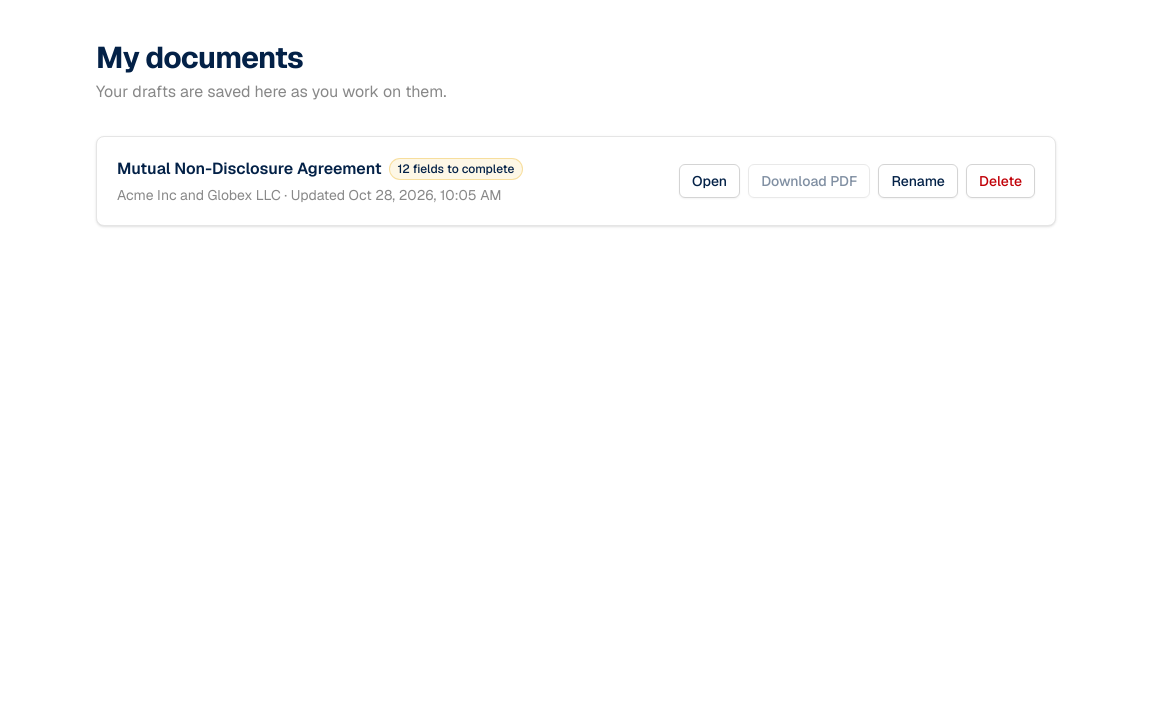
Test case: deleting a document › asks in a dialog, rather than the browser's confirm box, and keeps it when cancelled
The width and height of the screenshot is (1152, 720).
Click the button "Delete": (1000, 181) [966,164,1035,198]
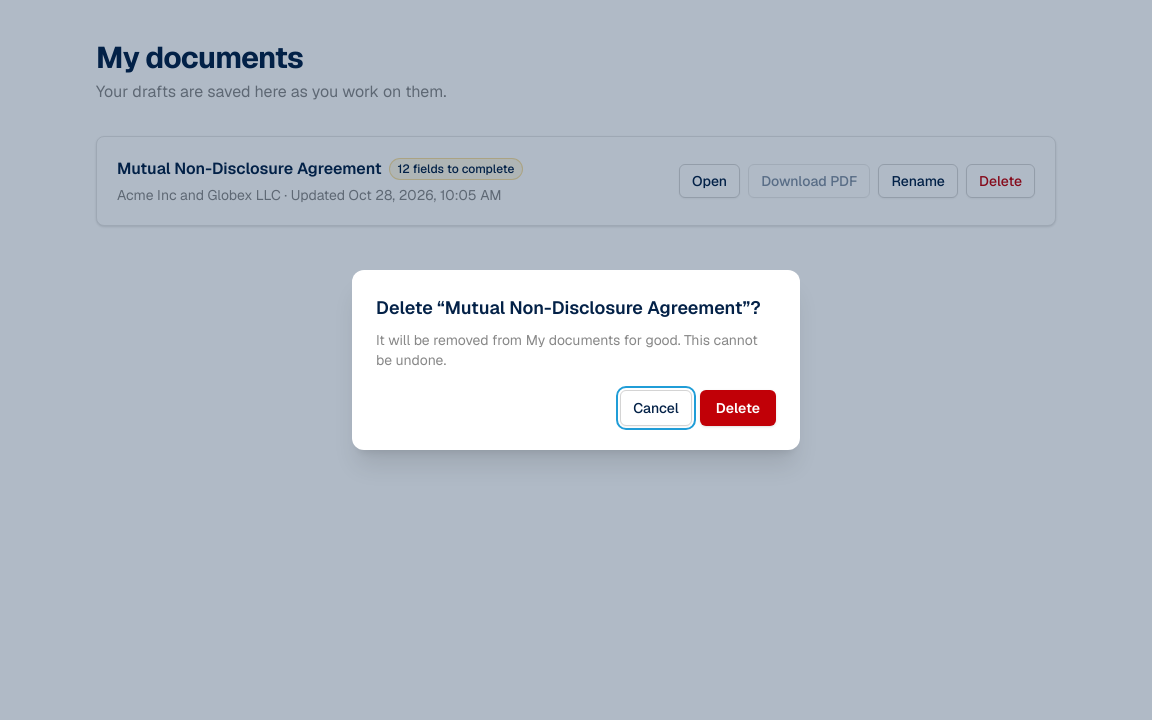
Click the button "Cancel": (656, 408) [620,390,692,426]
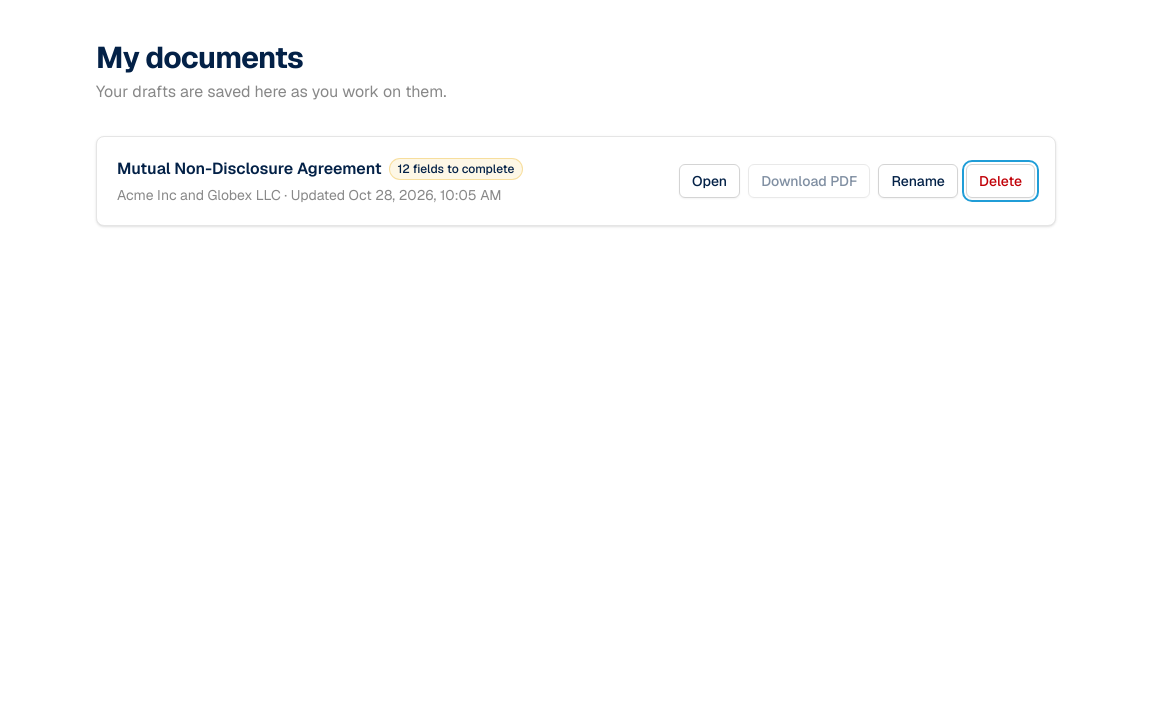
Expected: the text "Acme Inc and Globex LLC" is shown, [117,186,502,204]
Result: the dialog is gone
